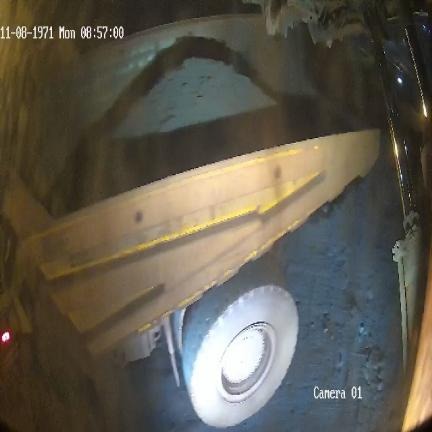pile: (116, 46, 274, 131)
